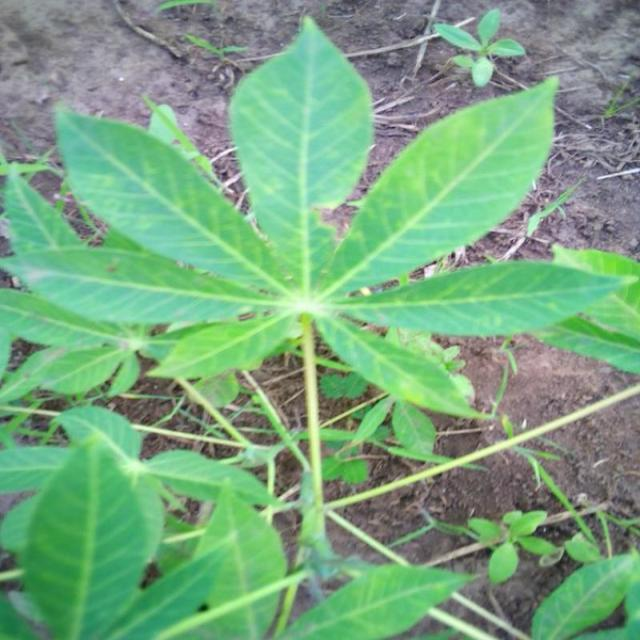cassava leaf: (1, 13, 640, 639), (317, 73, 561, 300), (54, 100, 290, 298), (229, 14, 376, 292), (20, 430, 166, 639)
